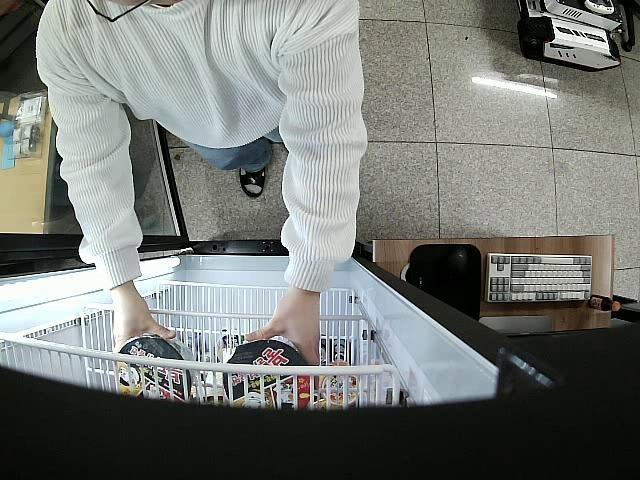07_buldak_L: (224, 340, 314, 411), (112, 338, 198, 402)
